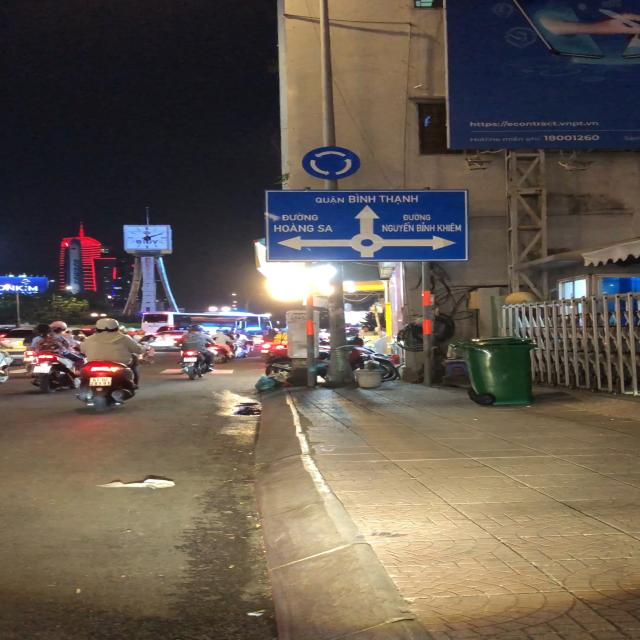Bien bao noi giao nhau chay theo vong xuyen: (299, 144, 364, 180)
